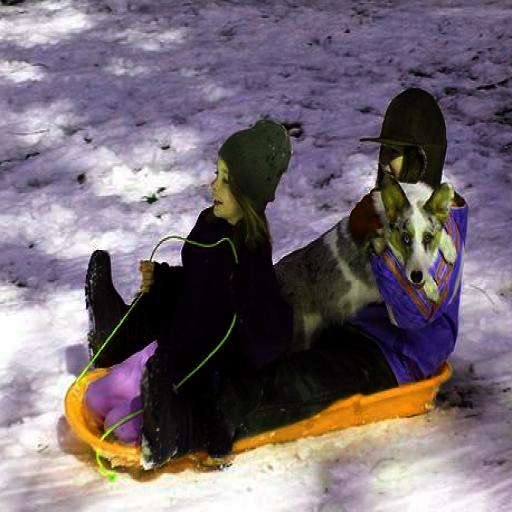dog_face: (384, 179, 454, 282)
